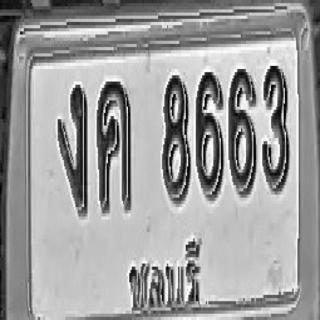A04: (97, 78, 132, 214)
A07: (57, 82, 88, 216)
N03: (262, 61, 289, 193)
N06: (228, 66, 256, 195), (196, 69, 223, 198)
N08: (162, 72, 191, 204)
P13: (127, 238, 205, 320)
